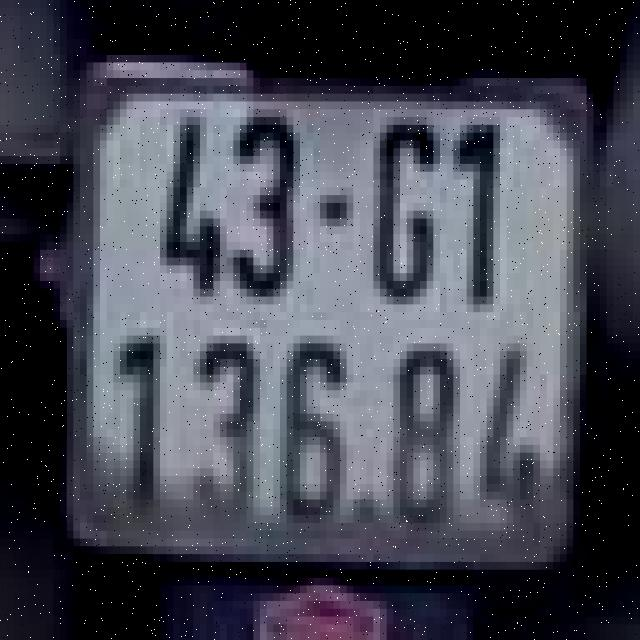1: (446, 117, 506, 328), (113, 324, 167, 519)
3: (190, 328, 263, 523), (230, 106, 303, 300)
4: (160, 102, 227, 304), (477, 340, 543, 534)
6: (280, 332, 347, 527)
8: (390, 340, 463, 534)
G: (376, 105, 436, 308)
